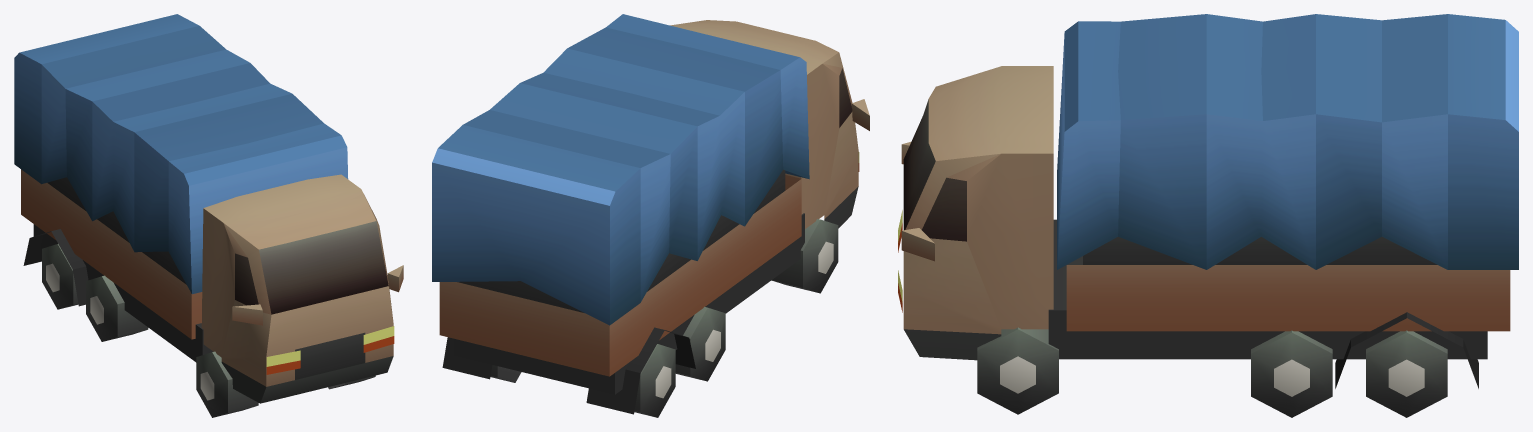
Rendered from Traffic_Truck_01.fbx.
3 views of the same model, side by side, from view 1: azimuth 30°, elevation 25°; view 2: azimuth 150°, elevation 25°; view 3: azimuth 270°, elevation 25° (orthographic). The views are drawn at different scales.
Parts seen in each view (by area): view 1: Traffic_Truck_01; view 2: Traffic_Truck_01; view 3: Traffic_Truck_01.
Boxes of the visible parts, x1,y1,x2,y2 form: Traffic_Truck_01: (14,14,403,417); Traffic_Truck_01: (432,14,869,417); Traffic_Truck_01: (898,14,1518,417).
Bounding box in the file's own units: 0.8151 × 1.06 × 1.97.
